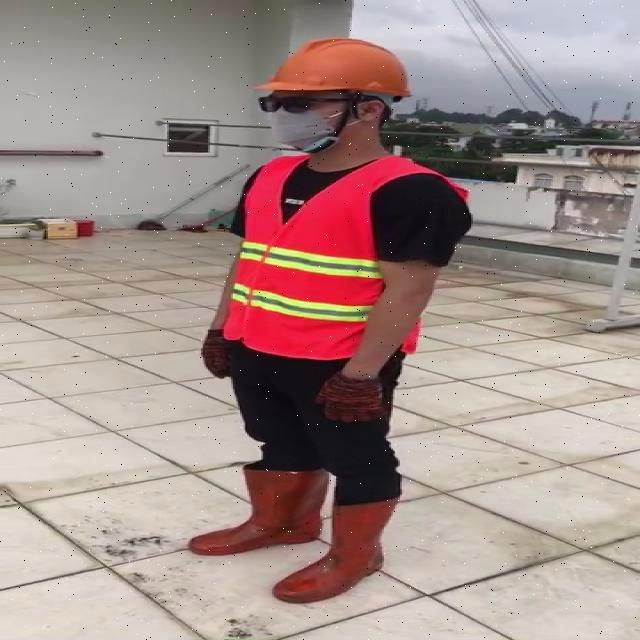Hard_hat: (250, 34, 422, 113)
Person: (189, 29, 479, 634)
Vest: (230, 151, 388, 364)
